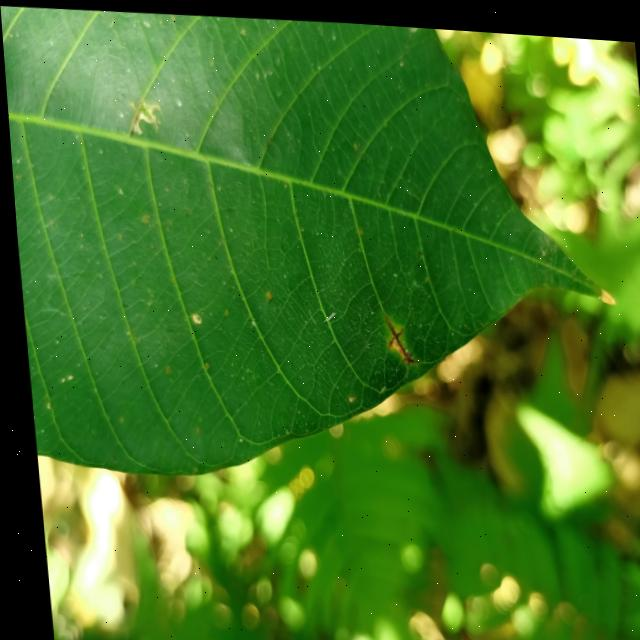Corynespora: (379, 313, 409, 358)
